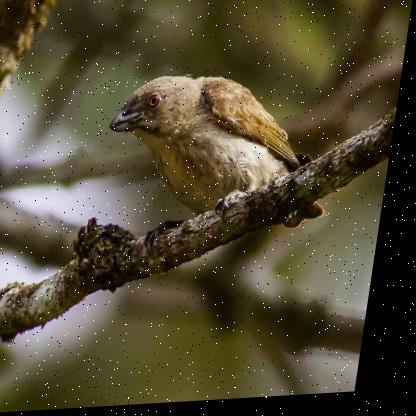Burung: (95, 69, 348, 244)
